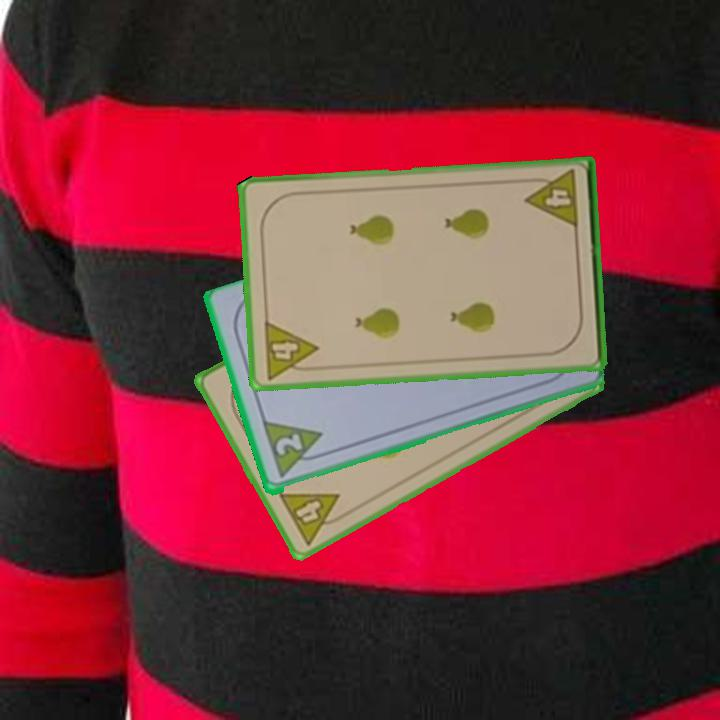2p: (259, 418, 331, 482)
4p: (275, 489, 352, 548), (260, 317, 322, 382), (522, 166, 581, 232)
